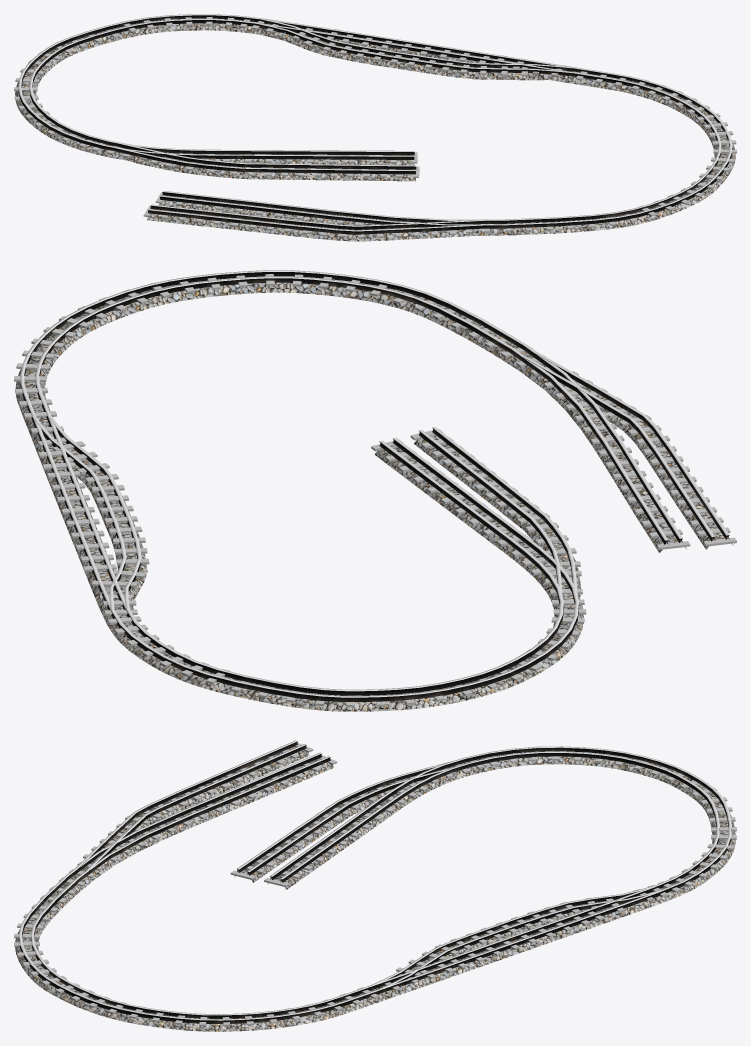
3 renders of one model, top to bottom at view 1: azimuth 30°, elevation 25°; view 2: azimuth 150°, elevation 25°; view 3: azimuth 270°, elevation 25°, orthographic. The views are drawn at different scales.
Parts seen in each view (by area): view 1: Beams, Gravel, Planks; view 2: Beams, Gravel, Planks; view 3: Beams, Gravel, Planks.
Boxes of the visible parts, x1=… form: Beams: x1=18, y1=14, x2=732, y2=234; Gravel: x1=15, y1=19, x2=735, y2=241; Planks: x1=14, y1=15, x2=736, y2=238; Beams: x1=20, y1=270, x2=729, y2=701; Gravel: x1=15, y1=278, x2=733, y2=711; Planks: x1=14, y1=273, x2=736, y2=707; Beams: x1=18, y1=740, x2=731, y2=1023; Gravel: x1=15, y1=746, x2=735, y2=1031; Planks: x1=14, y1=743, x2=736, y2=1026.
Size of the model in its own units: 7839 by 126 by 8409.
